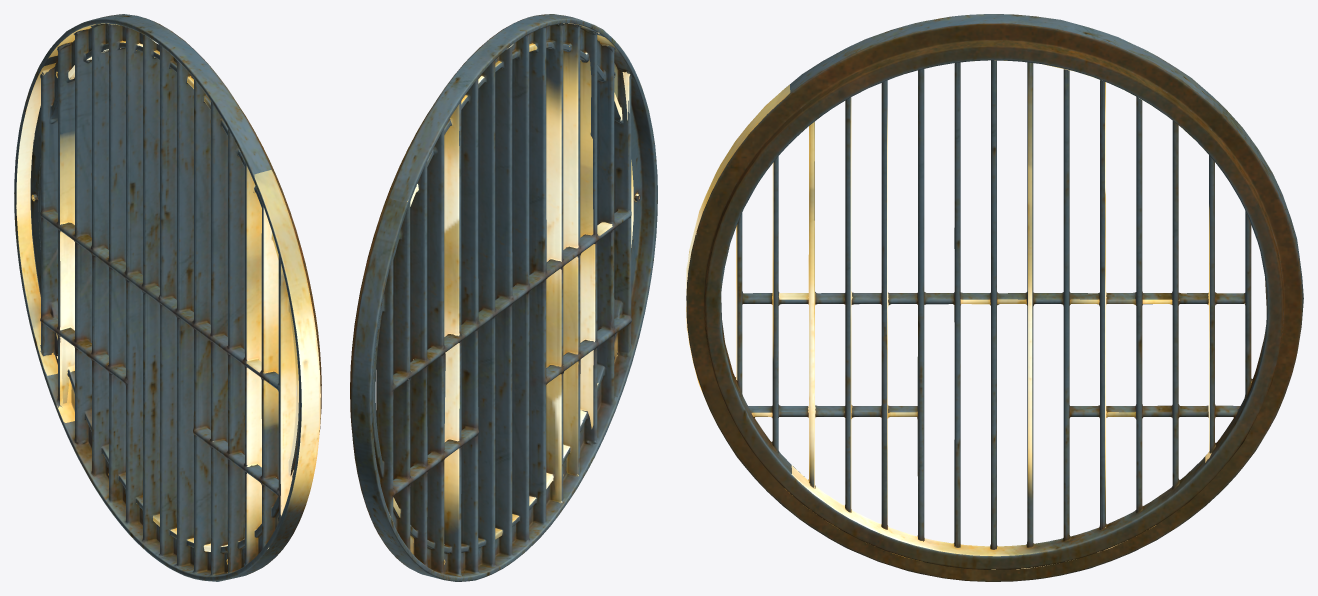
File: SM_Sewer_Tube_Gate_01a.fbx
3 views of the same model, side by side, from view 1: azimuth 30°, elevation 25°; view 2: azimuth 150°, elevation 25°; view 3: azimuth 270°, elevation 25° (orthographic). The views are drawn at different scales.
Parts seen in each view (by area): view 1: SM_Sewer_Tube_Gate_01a_LOD0; view 2: SM_Sewer_Tube_Gate_01a_LOD0; view 3: SM_Sewer_Tube_Gate_01a_LOD0.
Part boxes in pixels (<box>): SM_Sewer_Tube_Gate_01a_LOD0: <box>14,14,321,581</box>; SM_Sewer_Tube_Gate_01a_LOD0: <box>350,14,657,581</box>; SM_Sewer_Tube_Gate_01a_LOD0: <box>686,14,1303,581</box>.
Bounding box in the file's own units: 11.45 × 188 × 188.
